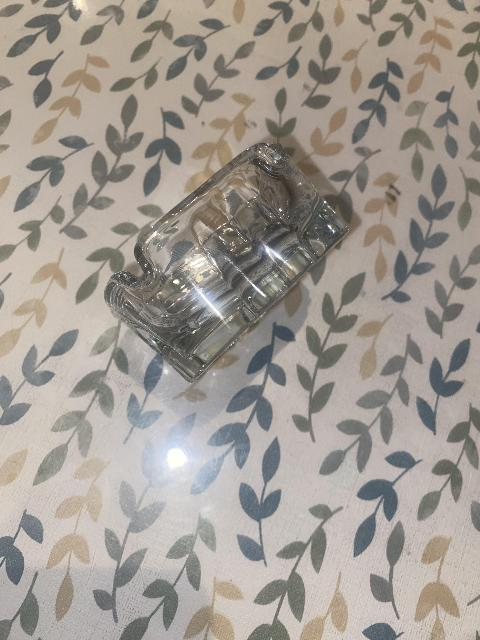Cam: (102, 134, 354, 393)
